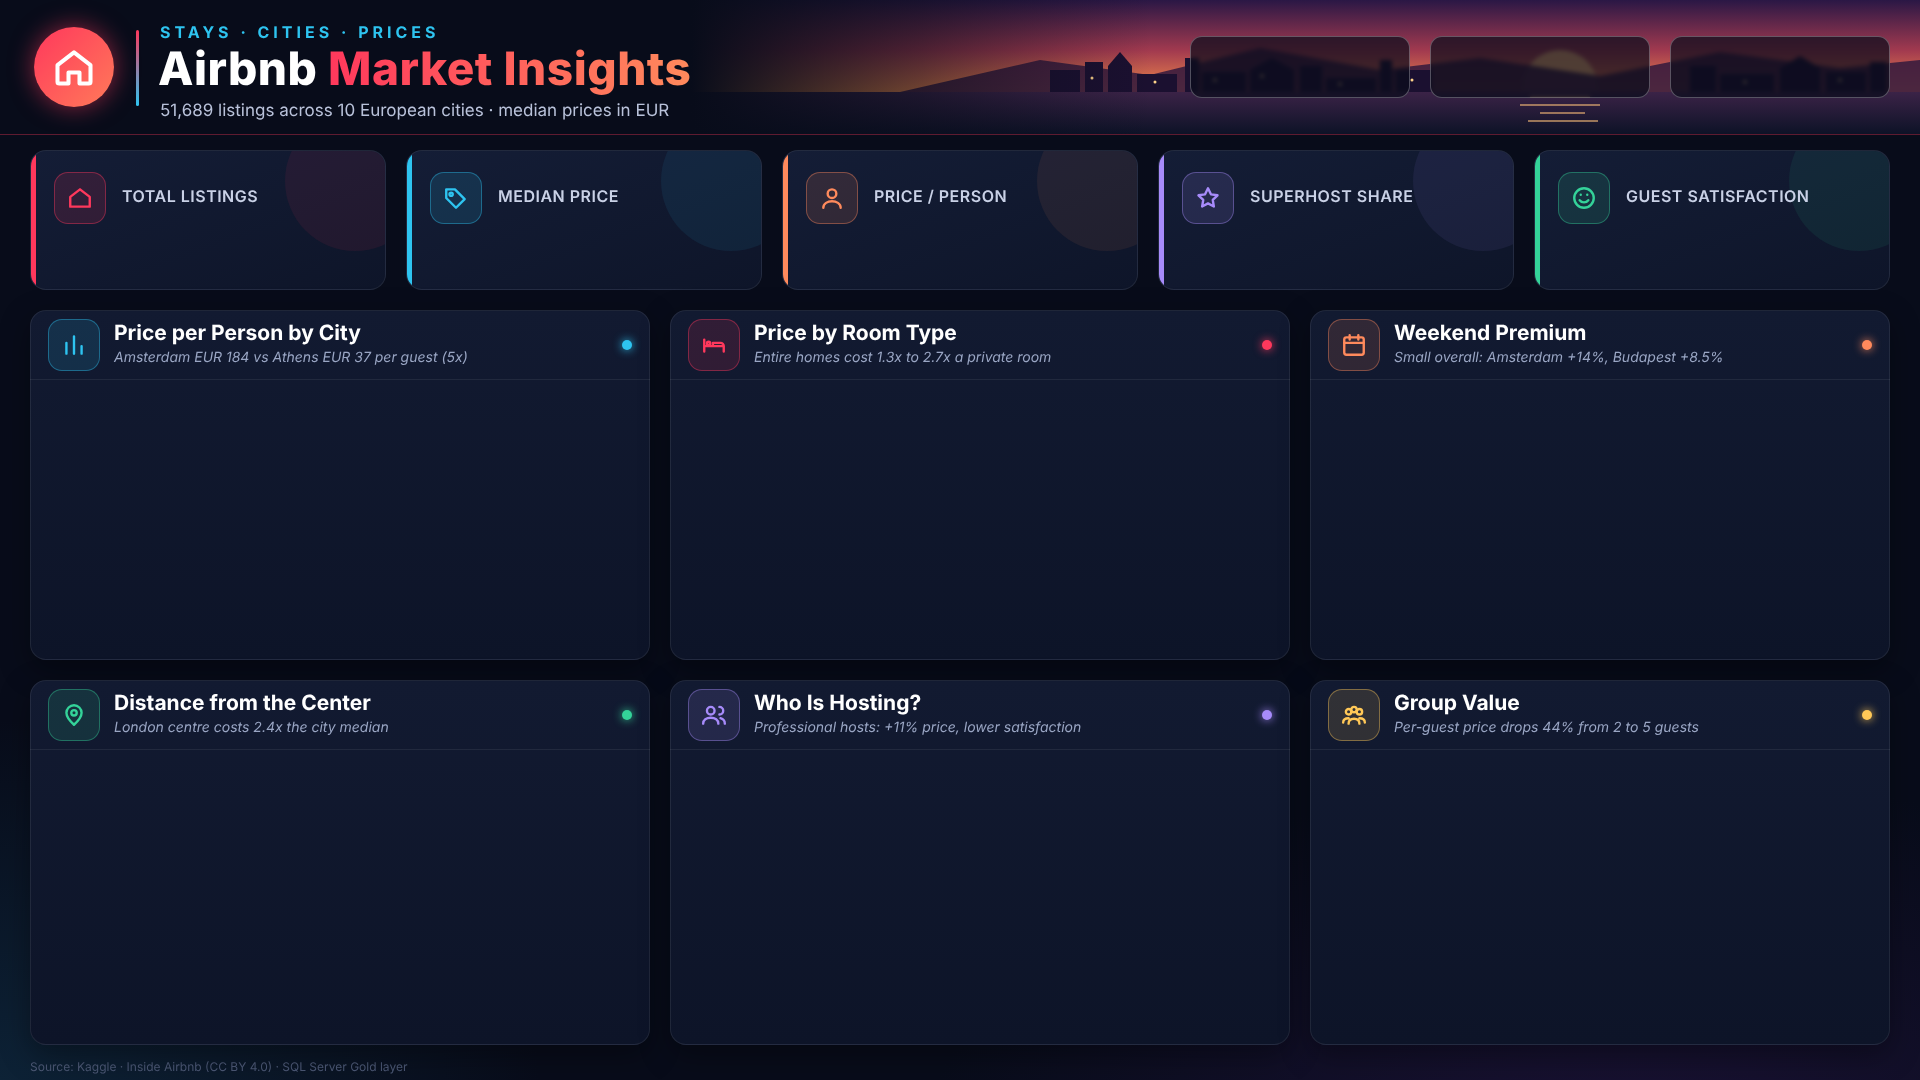

What the dashboard file says about the page in this screenshot:
{"tool":"powerbi","page":{"name":"Page 1","canvas":[1920,1080],"ordinal":0},"visuals":[{"type":"cardVisual","fields":{"Data":["Listings.Total Listings","Listings.Median Price","Listings.Median Price per Person","Listings.Superhost Share","Listings.Avg Guest Satisfaction"]},"box":[30.1,223.7,1863.5,75.1],"z":0},{"type":"clusteredBarChart","fields":{"Category":["City.city_name"],"Y":["Listings.Median Price per Person"]},"box":[40,385,600,268],"z":1000},{"type":"clusteredColumnChart","fields":{"Category":["City.city_name"],"Series":["Room Type.room_type_name"],"Y":["Listings.Median Price"]},"box":[680,385,600,268],"z":2000},{"type":"clusteredBarChart","fields":{"Category":["City.city_name"],"Y":["Listings.Weekend Premium %"]},"box":[1320,385,560,268],"z":3000},{"type":"slicer","fields":{"Values":["City.city_name"]},"box":[1190,36,220,62],"z":4000},{"type":"lineChart","fields":{"Category":["Listings.Distance Band"],"Y":["Listings.Median Price Index"]},"box":[40,755,600,280],"z":5000},{"type":"clusteredColumnChart","fields":{"Category":["Host Type.host_type_name"],"Y":["Listings.Median Price Index"]},"box":[680,755,600,280],"z":6000},{"type":"lineChart","fields":{"Category":["Listings.person_capacity"],"Y":["Listings.Median Price per Person"]},"box":[1320,755,560,280],"z":7000},{"type":"slicer","fields":{"Values":["Room Type.room_type_name"]},"box":[1430,36,220,62],"z":8000},{"type":"slicer","fields":{"Values":["Day Type.day_type_name"]},"box":[1670,36,220,62],"z":9000}]}

Visuals, with their boxes in screenshot pixels (x1, y1, x2, y2), scaled from the page's 1920x1080 canvas onto the 1920x1080 screenshot:
cardVisual - Listings.Total Listings x Listings.Median Price: (left=30, top=224, right=1894, bottom=299)
clusteredBarChart - City.city_name x Listings.Median Price per Person: (left=40, top=385, right=640, bottom=653)
clusteredColumnChart - City.city_name x Room Type.room_type_name: (left=680, top=385, right=1280, bottom=653)
clusteredBarChart - City.city_name x Listings.Weekend Premium %: (left=1320, top=385, right=1880, bottom=653)
slicer - City.city_name: (left=1190, top=36, right=1410, bottom=98)
lineChart - Listings.Distance Band x Listings.Median Price Index: (left=40, top=755, right=640, bottom=1035)
clusteredColumnChart - Host Type.host_type_name x Listings.Median Price Index: (left=680, top=755, right=1280, bottom=1035)
lineChart - Listings.person_capacity x Listings.Median Price per Person: (left=1320, top=755, right=1880, bottom=1035)
slicer - Room Type.room_type_name: (left=1430, top=36, right=1650, bottom=98)
slicer - Day Type.day_type_name: (left=1670, top=36, right=1890, bottom=98)
